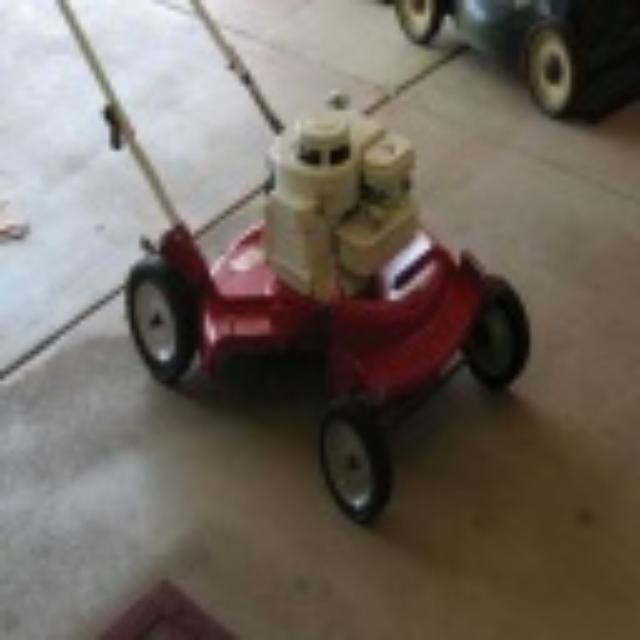Rotary-Mower: (40, 1, 578, 551)
